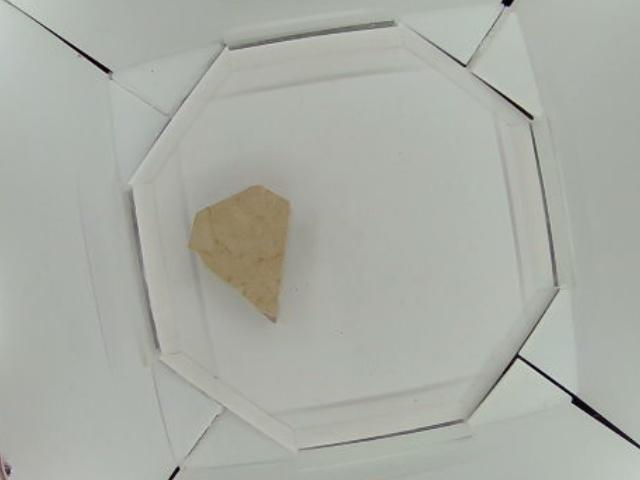China: (186, 183, 293, 322)
